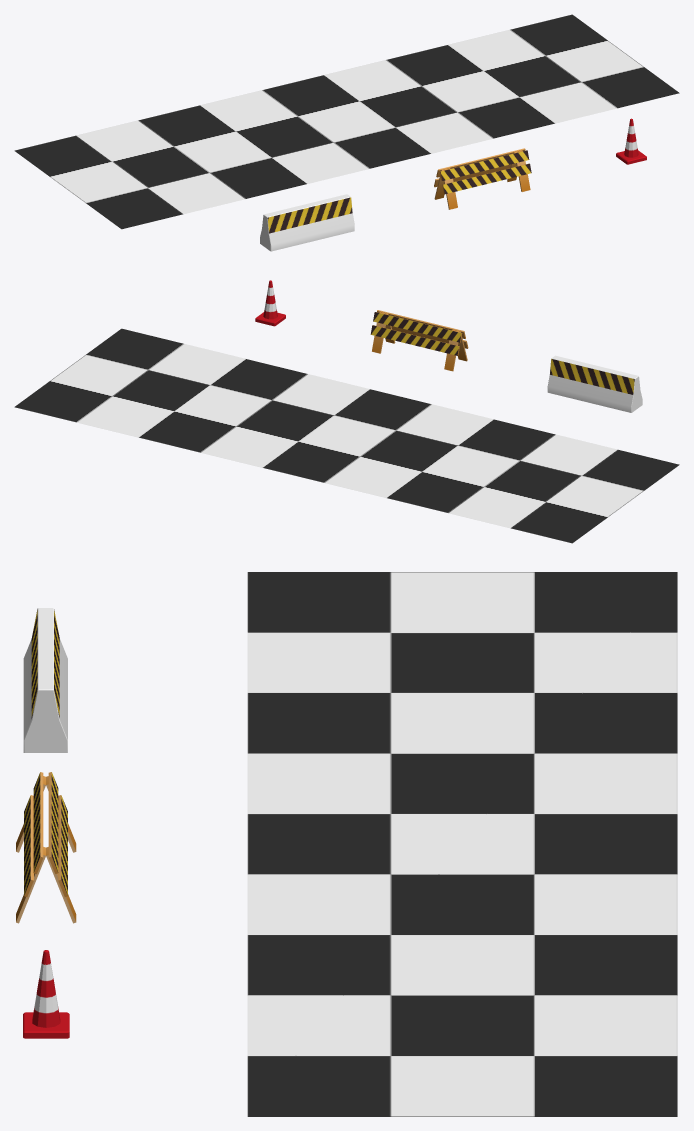
The model's file is Barikatlar.fbx.
3 views of the same model, one above another, from view 1: azimuth 30°, elevation 25°; view 2: azimuth 150°, elevation 25°; view 3: azimuth 270°, elevation 25° (orthographic). The views are drawn at different scales.
Visible parts, largest first — view 1: Finish, Barikat2, Barikat, Duba; view 2: Finish, Barikat2, Barikat, Duba; view 3: Finish, Barikat2, Barikat, Duba.
Boxes of the visible parts, x1=… form: Finish: x1=14, y1=14, x2=679, y2=229; Barikat2: x1=260, y1=194, x2=354, y2=251; Barikat: x1=434, y1=148, x2=531, y2=209; Duba: x1=616, y1=118, x2=646, y2=164; Finish: x1=14, y1=328, x2=679, y2=543; Barikat2: x1=547, y1=355, x2=642, y2=412; Barikat: x1=370, y1=310, x2=468, y2=371; Duba: x1=255, y1=280, x2=285, y2=326; Finish: x1=247, y1=572, x2=677, y2=1116; Barikat2: x1=23, y1=608, x2=67, y2=752; Barikat: x1=16, y1=772, x2=76, y2=923; Duba: x1=23, y1=950, x2=69, y2=1038.
Bounding box in the file's own units: 82.62 × 5.6 × 42.44.
1 material, 1 textured.
